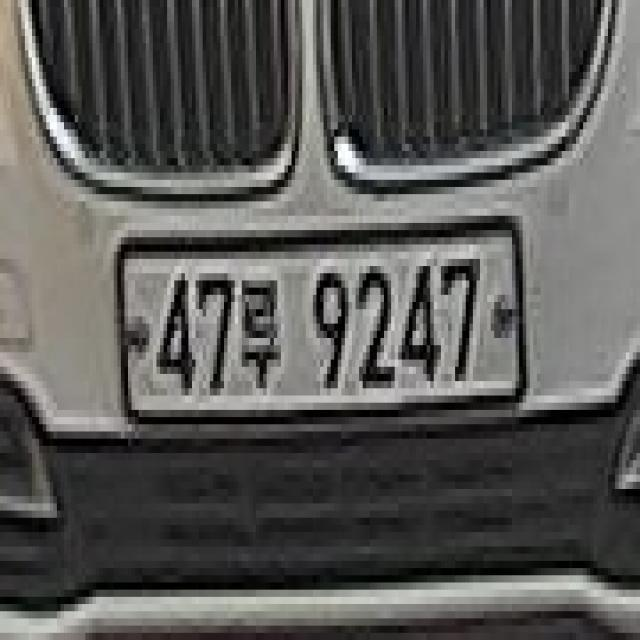2: (353, 262, 398, 400)
4: (151, 274, 197, 406), (401, 263, 442, 394)
7: (442, 254, 483, 396), (201, 271, 237, 404)
9: (309, 264, 351, 406)
license_plate: (105, 224, 533, 423)
lu: (238, 272, 290, 403)
